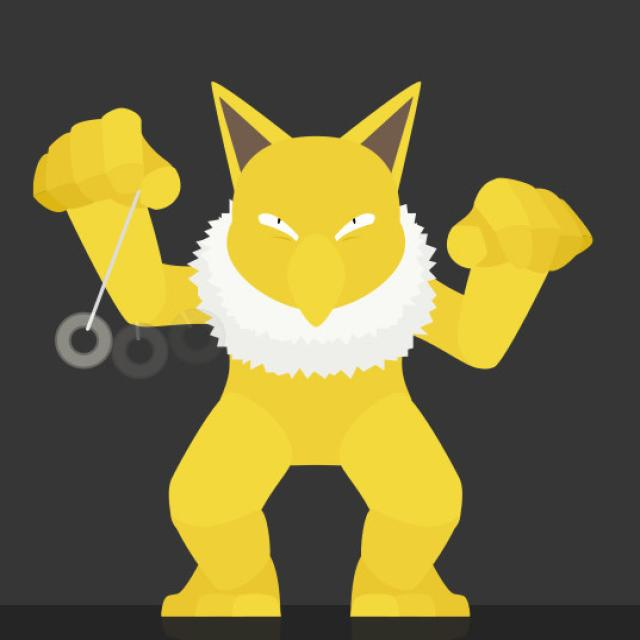Hypno: (135, 78, 495, 625)
